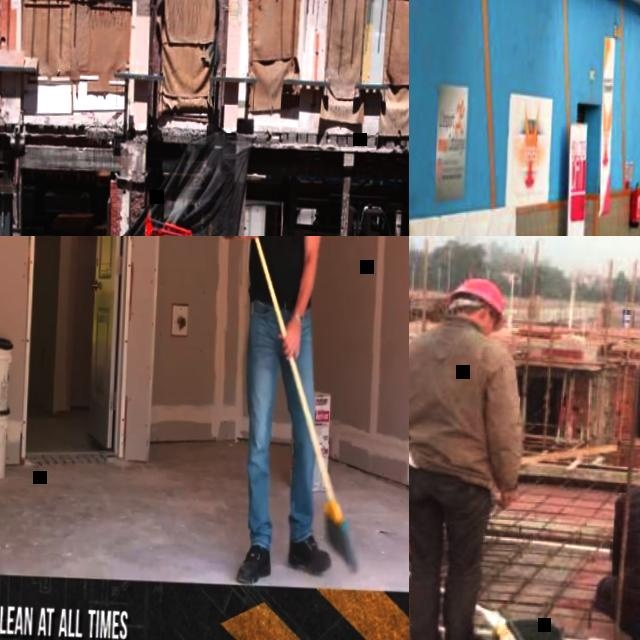Hardhat: (446, 275, 508, 318)
NO-Mask: (479, 309, 497, 335)
NO-Safety Vest: (409, 320, 495, 476), (245, 236, 315, 310), (613, 475, 640, 617)
Person: (203, 236, 351, 587), (409, 271, 525, 640), (590, 436, 640, 640), (409, 463, 504, 559)
machinery: (282, 200, 395, 236)
